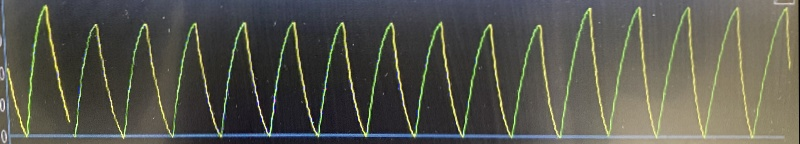normal_volume: (11, 8, 760, 144)
